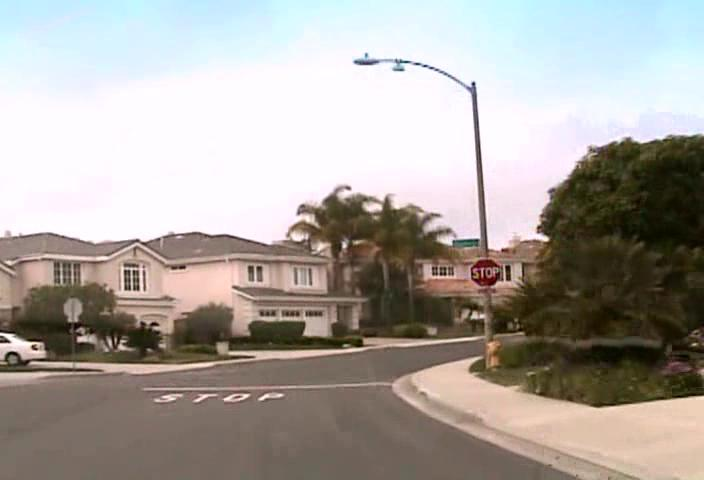stop: (470, 258, 501, 287)
